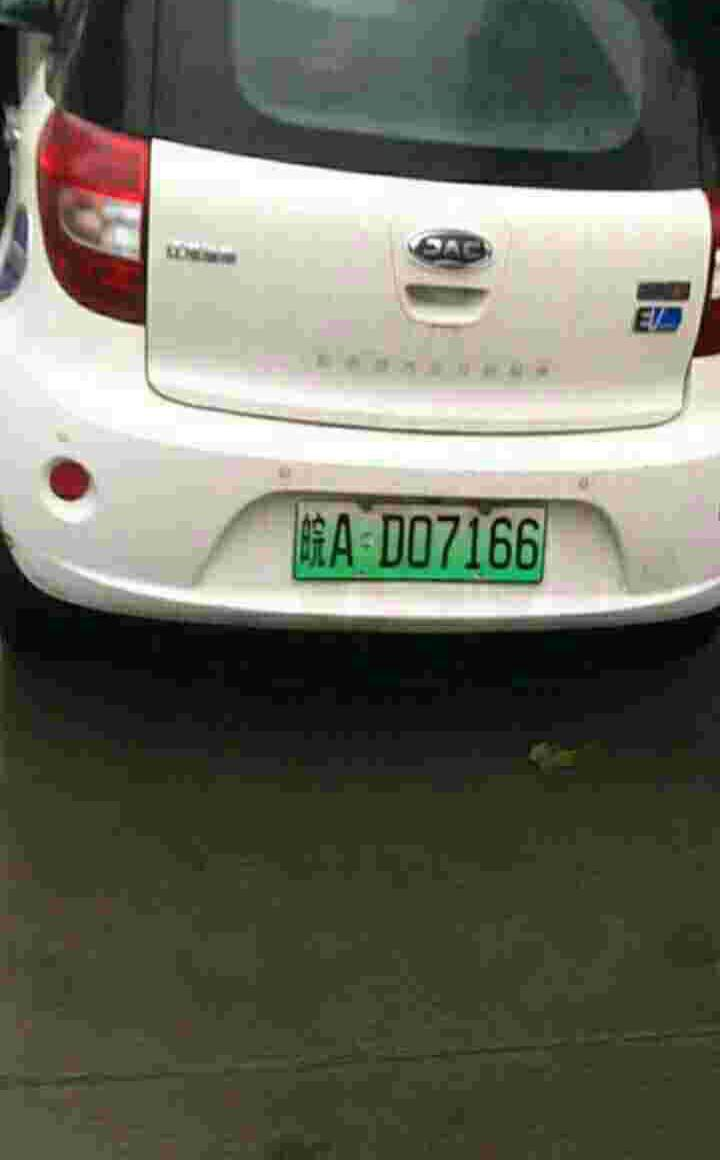car: (296, 493, 552, 586)
